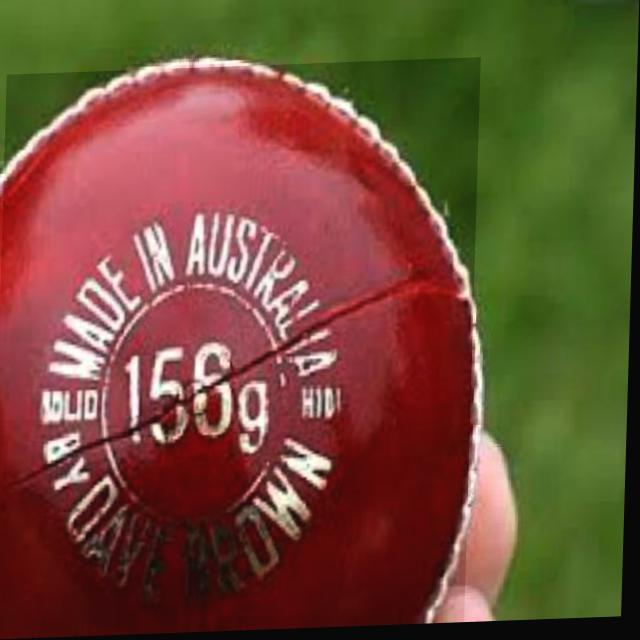-: (0, 61, 481, 640)
